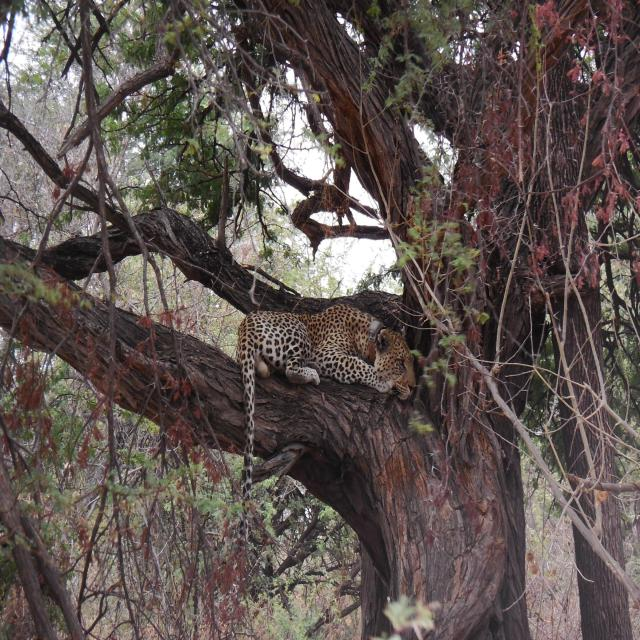Leopard: (236, 303, 418, 554)
